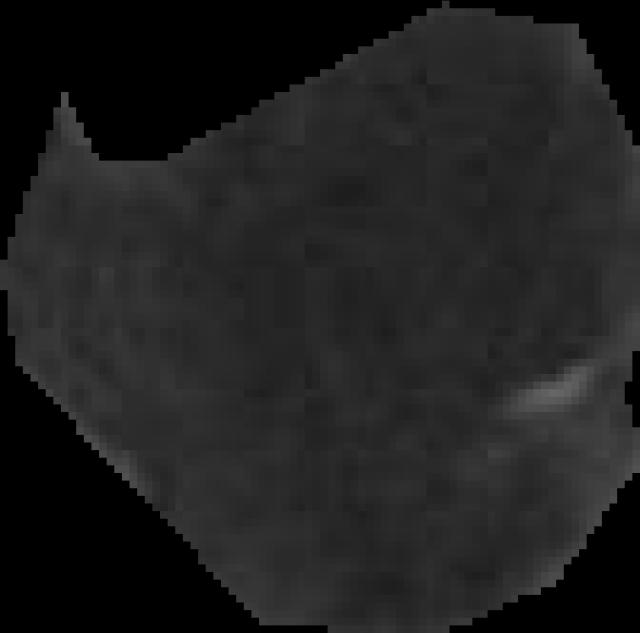tumor_moderate_chance: (0, 1, 640, 633)
